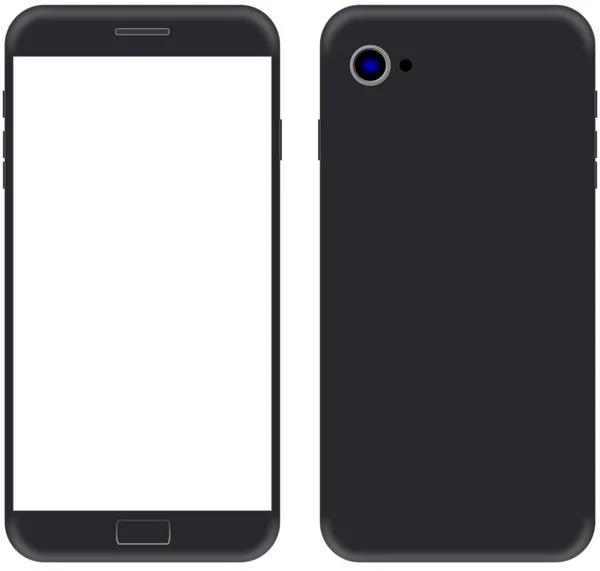Smart Phone: (1, 0, 283, 566)
